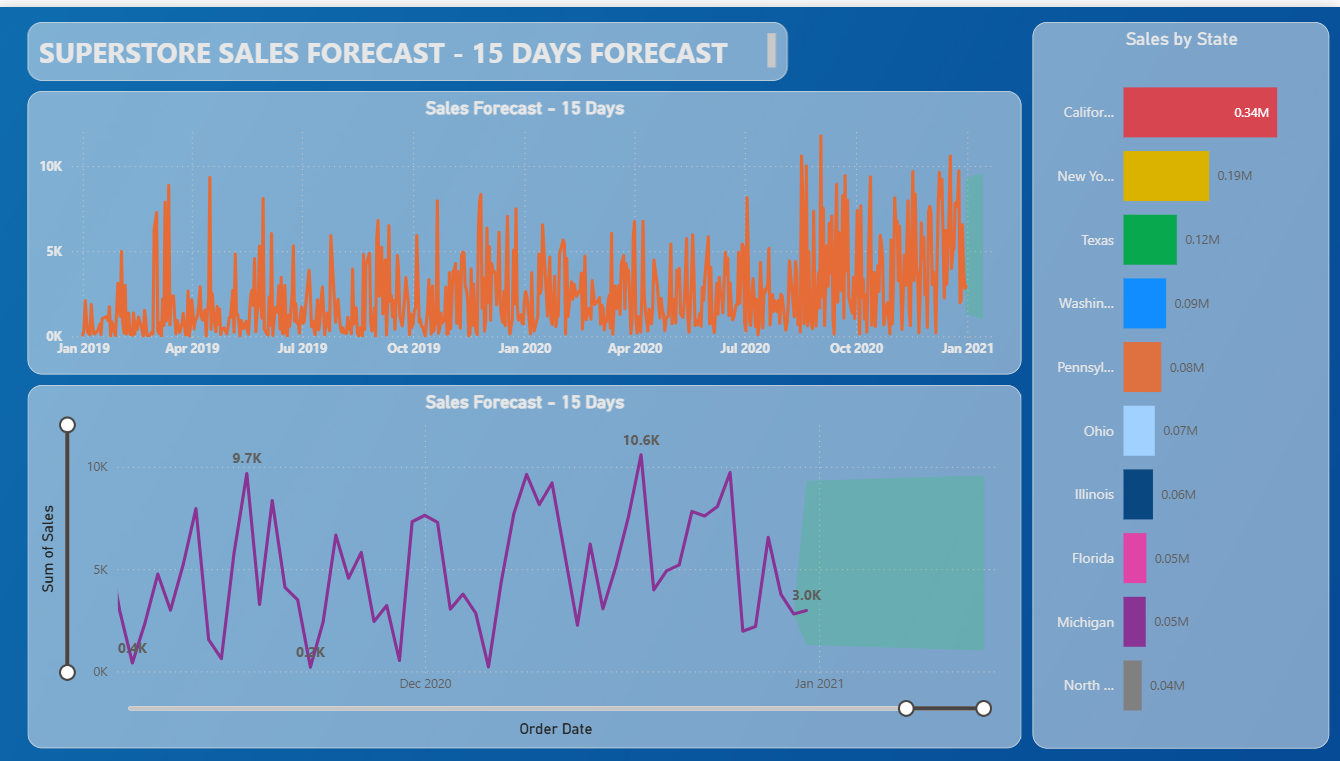

This screenshot's page, from the dashboard's own definition file:
{"tool":"powerbi","page":{"name":"Page 2","canvas":[1280,720],"ordinal":1},"visuals":[{"type":"lineChart","title":" Sales Forecast  - 15 Days ","fields":{"Y":["Sum(SuperStore_Sales_Dataset.Sales)"],"Category":["SuperStore_Sales_Dataset.Order Date"]},"box":[30.2,360.5,946.4,346.1],"z":0},{"type":"lineChart","title":" Sales Forecast  - 15 Days","fields":{"Y":["Sum(SuperStore_Sales_Dataset.Sales)"],"Category":["SuperStore_Sales_Dataset.Order Date"]},"box":[30.2,80.4,946.4,270],"z":1000},{"type":"clusteredBarChart","title":" Sales by State","fields":{"Y":["Sum(SuperStore_Sales_Dataset.Sales)"],"Category":["SuperStore_Sales_Dataset.State"]},"box":[986.6,14.4,282.9,692.2],"z":2000},{"type":"textbox","box":[30.2,14.4,723.8,56],"z":3000}]}

Visuals, with their boxes in screenshot pixels (x1, y1, x2, y2), scaled from the page's 1280x720 canvas onto the 1340x761 screenshot:
" Sales Forecast  - 15 Days " lineChart: [32,381,1022,747]
" Sales Forecast  - 15 Days" lineChart: [32,85,1022,370]
" Sales by State" clusteredBarChart: [1033,15,1329,747]
textbox: [32,15,789,74]
